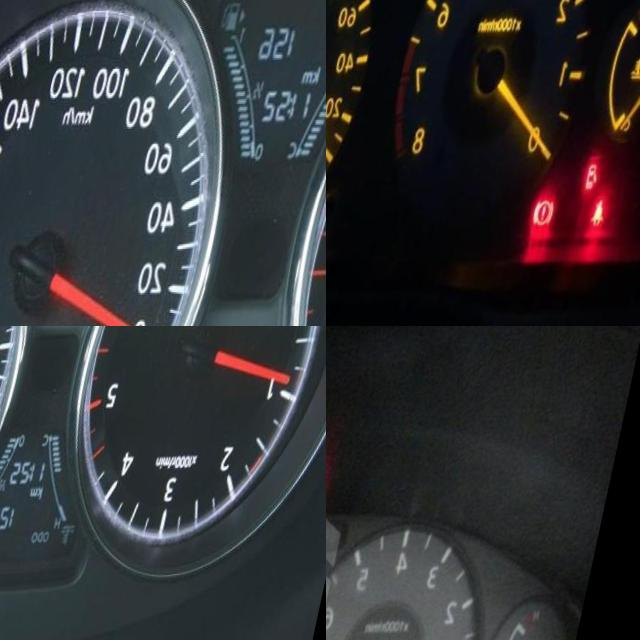Seat Belt: (611, 204, 627, 232)
